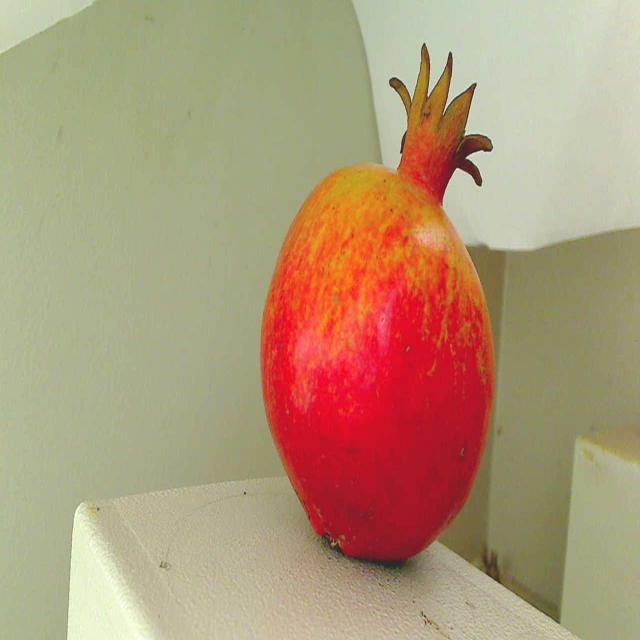pomegranate: (252, 29, 516, 572)
